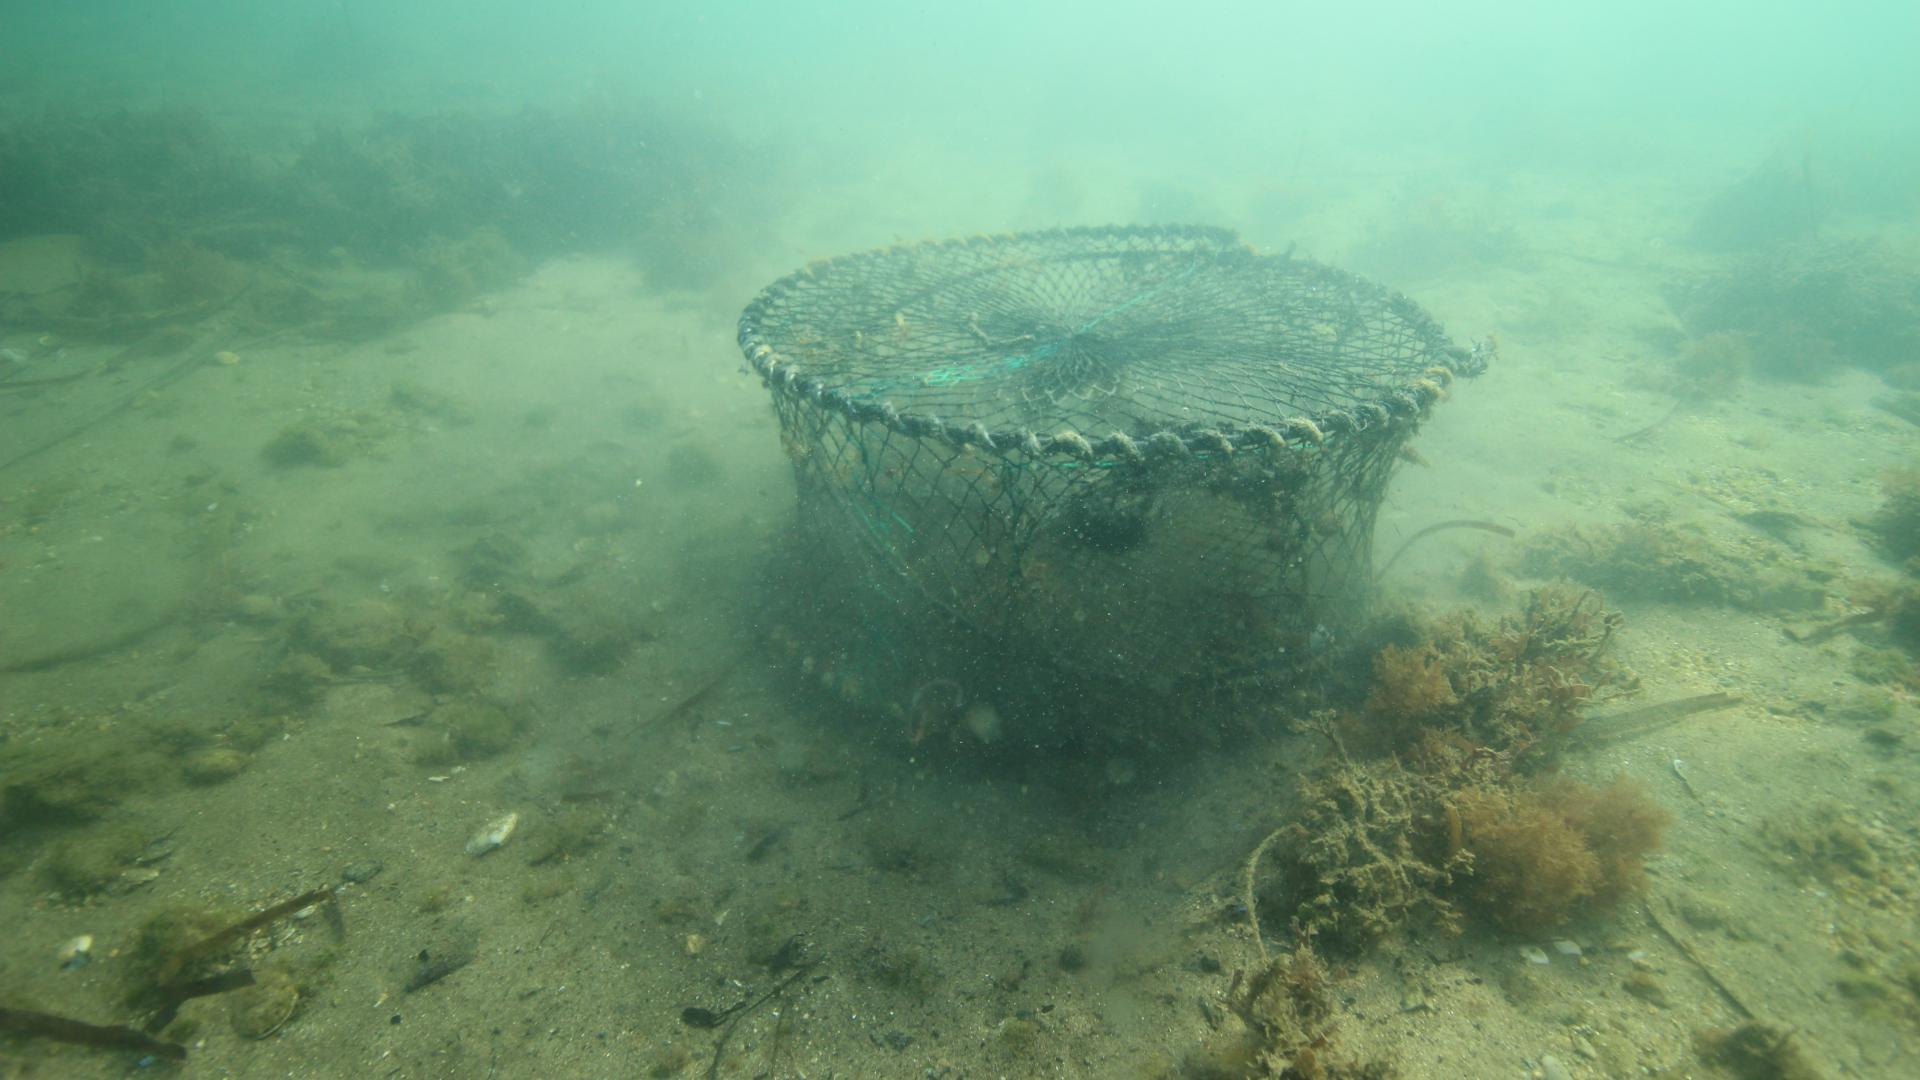circular fish trap: (733, 219, 1457, 752)
